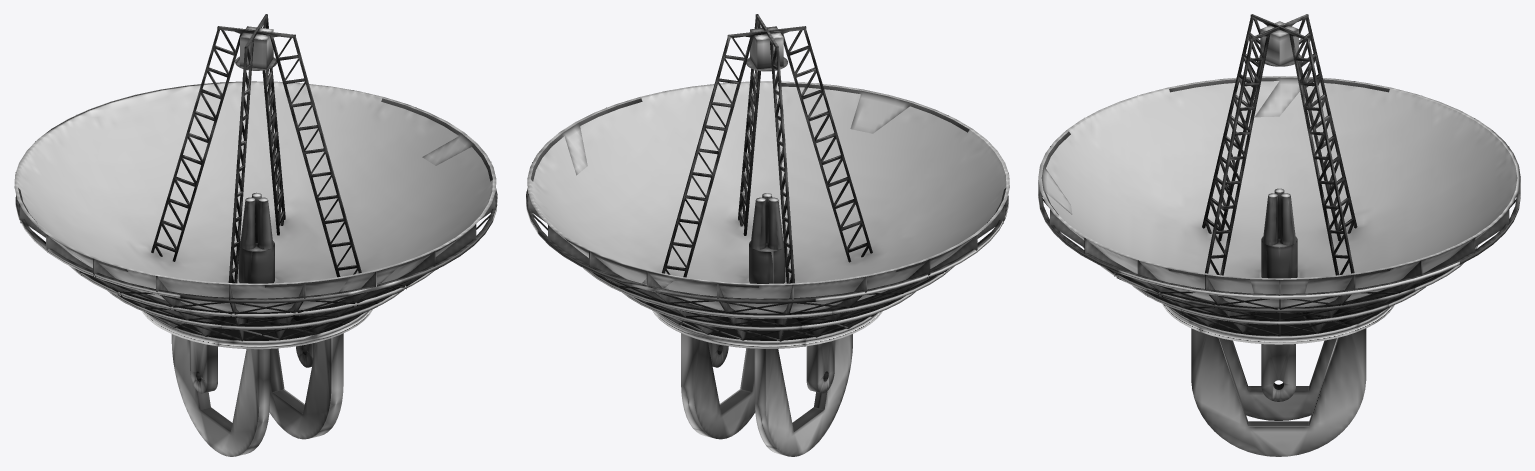
File: space-70-meter-dish.glb
The picture shows the model from 3 angles, left to right: view 1: azimuth 30°, elevation 25°; view 2: azimuth 150°, elevation 25°; view 3: azimuth 270°, elevation 25°; orthographic projection.
Visible parts, largest first — view 1: 70m_rev_e.; view 2: 70m_rev_e.; view 3: 70m_rev_e..
Boxes of the visible parts, x1,y1,x2,y2 form: 70m_rev_e.: (14, 14, 497, 456); 70m_rev_e.: (526, 14, 1009, 456); 70m_rev_e.: (1038, 14, 1520, 456).
Bounding box in the file's own units: 91.57 × 85.54 × 91.32.
Materials: 1 (1 with a texture image).
